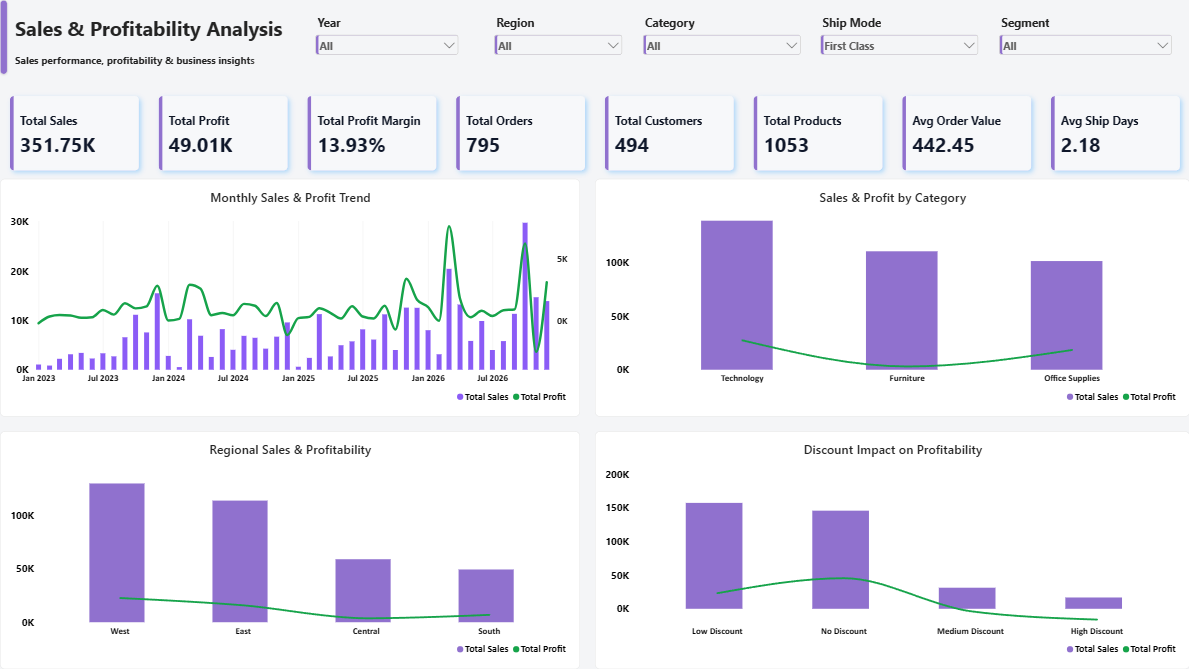

The dashboard page shown, as its layout file describes it:
{"tool":"powerbi","page":{"name":"Executive Overview","canvas":[1920,1080],"ordinal":0},"visuals":[{"type":"textbox","box":[24,24,456,96],"z":0},{"type":"slicer","fields":{"Values":["superstore_sales_clean.Segment"]},"box":[1608,24,288,72],"z":1000},{"type":"slicer","fields":{"Values":["superstore_sales_clean.Order Date.Variation.Date Hierarchy.Year"]},"box":[504,24,240,72],"z":2000},{"type":"slicer","fields":{"Values":["superstore_sales_clean.Ship Mode"]},"box":[1320,24,264,72],"z":3000},{"type":"slicer","fields":{"Values":["superstore_sales_clean.Category"]},"box":[1032,24,264,72],"z":4000},{"type":"slicer","fields":{"Values":["superstore_sales_clean.Region"]},"box":[792,24,216,72],"z":5000},{"type":"cardVisual","fields":{"Data":["superstore_sales_clean.Total Sales","superstore_sales_clean.Total Profit","superstore_sales_clean.Total Profit Margin","superstore_sales_clean.Total Orders","superstore_sales_clean.Total Customers","superstore_sales_clean.Total Products","superstore_sales_clean.Average Order Value","superstore_sales_clean.Average Shipping Days"]},"box":[0,120,1920,192],"z":6000},{"type":"lineClusteredColumnComboChart","title":"Monthly Sales & Profit Trend","fields":{"Category":["superstore_sales_clean.Year-Month"],"Y":["superstore_sales_clean.Total Sales"],"Y2":["superstore_sales_clean.Total Profit"]},"box":[0,288,936,384],"z":7000},{"type":"lineClusteredColumnComboChart","title":"Sales & Profit by Category","fields":{"Category":["superstore_sales_clean.Category"],"Y":["superstore_sales_clean.Total Sales"],"Y2":["superstore_sales_clean.Total Profit"]},"box":[960,288,960,384],"z":8000},{"type":"lineClusteredColumnComboChart","title":"Regional Sales & Profitability","fields":{"Category":["superstore_sales_clean.Region"],"Y":["superstore_sales_clean.Total Sales"],"Y2":["superstore_sales_clean.Total Profit"]},"box":[0,696,936,384],"z":9000},{"type":"lineClusteredColumnComboChart","title":"Discount Impact on Profitability","fields":{"Category":["superstore_sales_clean.Discount Band"],"Y":["superstore_sales_clean.Total Sales"],"Y2":["superstore_sales_clean.Total Profit"]},"box":[960,696,960,384],"z":10000},{"type":"textbox","box":[0,0,12,120],"z":11000}]}

Visuals, with their boxes in screenshot pixels (x1, y1, x2, y2), scaled from the page's 1920x1080 canvas onto the 1189x669 screenshot:
textbox: {"x1": 15, "y1": 15, "x2": 297, "y2": 74}
slicer - superstore_sales_clean.Segment: {"x1": 996, "y1": 15, "x2": 1174, "y2": 59}
slicer - superstore_sales_clean.Order Date.Variation.Date Hierarchy.Year: {"x1": 312, "y1": 15, "x2": 461, "y2": 59}
slicer - superstore_sales_clean.Ship Mode: {"x1": 817, "y1": 15, "x2": 981, "y2": 59}
slicer - superstore_sales_clean.Category: {"x1": 639, "y1": 15, "x2": 803, "y2": 59}
slicer - superstore_sales_clean.Region: {"x1": 490, "y1": 15, "x2": 624, "y2": 59}
cardVisual - superstore_sales_clean.Total Sales x superstore_sales_clean.Total Profit: {"x1": 0, "y1": 74, "x2": 1188, "y2": 193}
"Monthly Sales & Profit Trend" lineClusteredColumnComboChart: {"x1": 0, "y1": 178, "x2": 580, "y2": 416}
"Sales & Profit by Category" lineClusteredColumnComboChart: {"x1": 594, "y1": 178, "x2": 1188, "y2": 416}
"Regional Sales & Profitability" lineClusteredColumnComboChart: {"x1": 0, "y1": 431, "x2": 580, "y2": 668}
"Discount Impact on Profitability" lineClusteredColumnComboChart: {"x1": 594, "y1": 431, "x2": 1188, "y2": 668}
textbox: {"x1": 0, "y1": 0, "x2": 7, "y2": 74}
